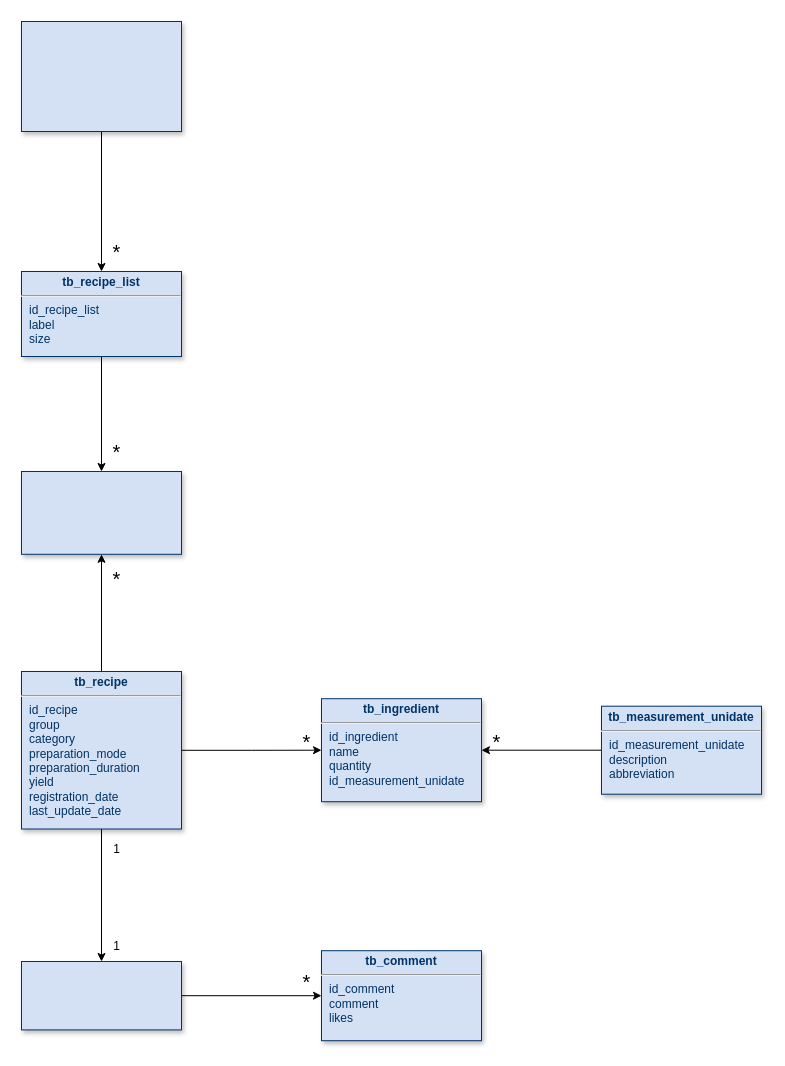
This 785x1066 diagram has some shape labels left out. The centre of each missing label's shape, as x and y in pixels:
tb_rating id_rating likes: the point at 102,996
tb_recipe_recipe_list id_recipe_recipe_list id_recibe id_recipe_list: the point at 102,513
tb_user id_user name email password bio: the point at 102,77
